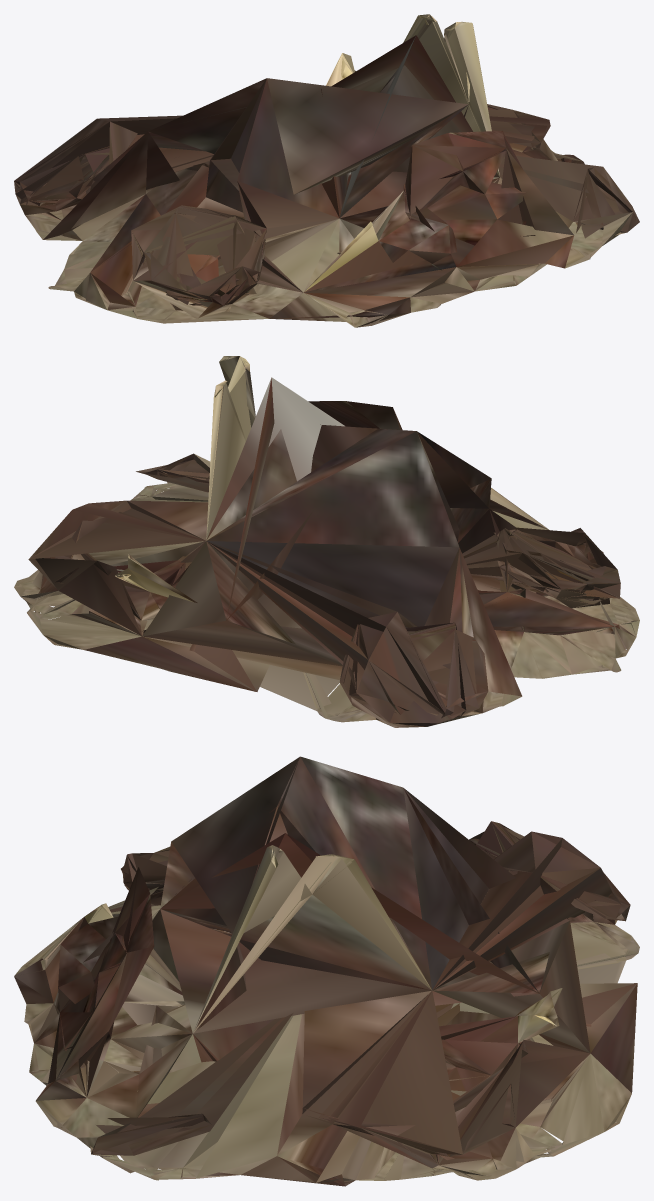
File: scrap_heap_b_lod.glb
The picture shows the model from 3 angles, top to bottom: view 1: azimuth 30°, elevation 25°; view 2: azimuth 150°, elevation 25°; view 3: azimuth 270°, elevation 25°; orthographic projection. The views are drawn at different scales.
Parts seen in each view (by area): view 1: mesh_node; view 2: mesh_node; view 3: mesh_node.
Boxes of the visible parts, bbox=[...] form: mesh_node: bbox=[14, 14, 639, 327]; mesh_node: bbox=[14, 356, 639, 727]; mesh_node: bbox=[14, 756, 639, 1186].
Size of the model in its own units: 1.87 by 0.642 by 1.46.
1 material, 1 textured.
